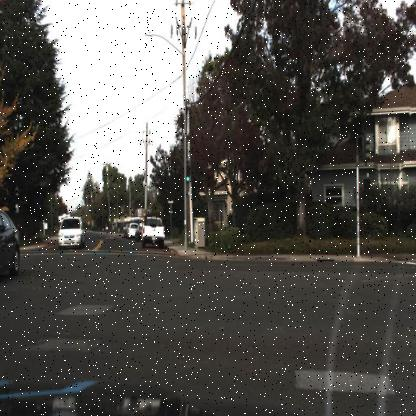car: (0, 202, 20, 281), (56, 215, 83, 251), (142, 216, 165, 247)
trafficLight-Green: (184, 163, 194, 194), (183, 162, 191, 190)
truck: (60, 213, 76, 244)
